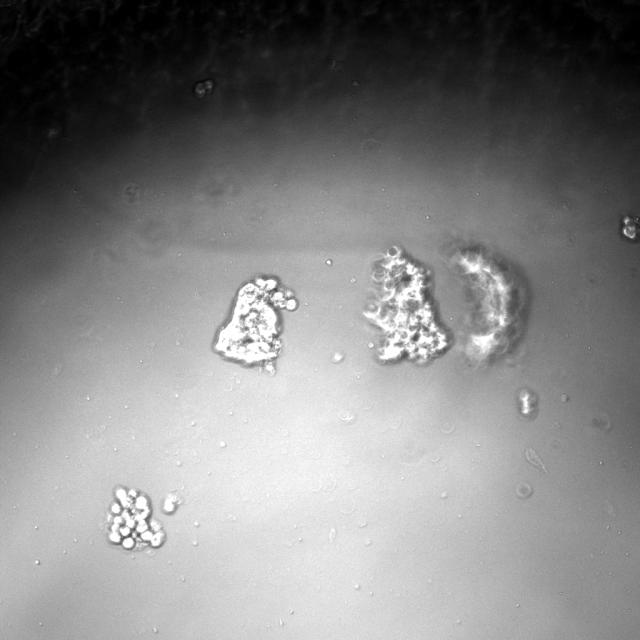organoid: (363, 246, 451, 364), (449, 245, 528, 367), (212, 276, 297, 374), (107, 485, 165, 550), (516, 387, 538, 420), (620, 214, 639, 242), (193, 78, 215, 98), (162, 493, 181, 514)
